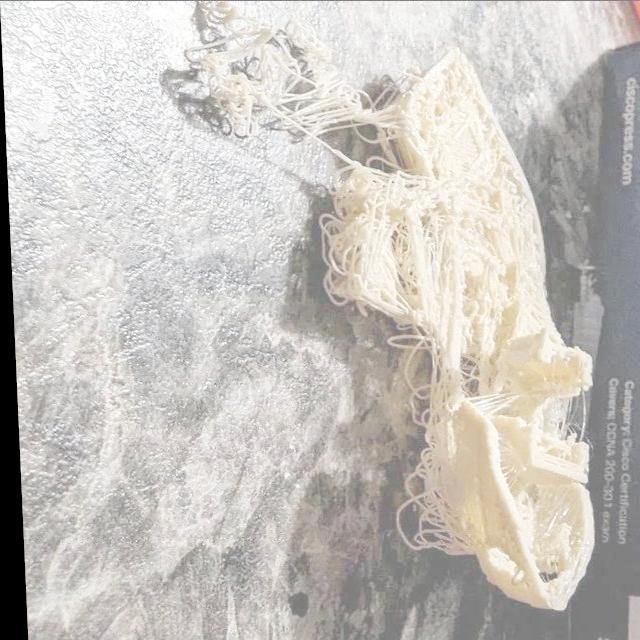spaghetti: (328, 176, 431, 310), (186, 9, 278, 131), (280, 47, 361, 137), (408, 424, 450, 552), (421, 371, 451, 427), (384, 325, 427, 363)
stringing: (474, 388, 509, 420), (538, 395, 565, 433), (573, 387, 589, 445)
